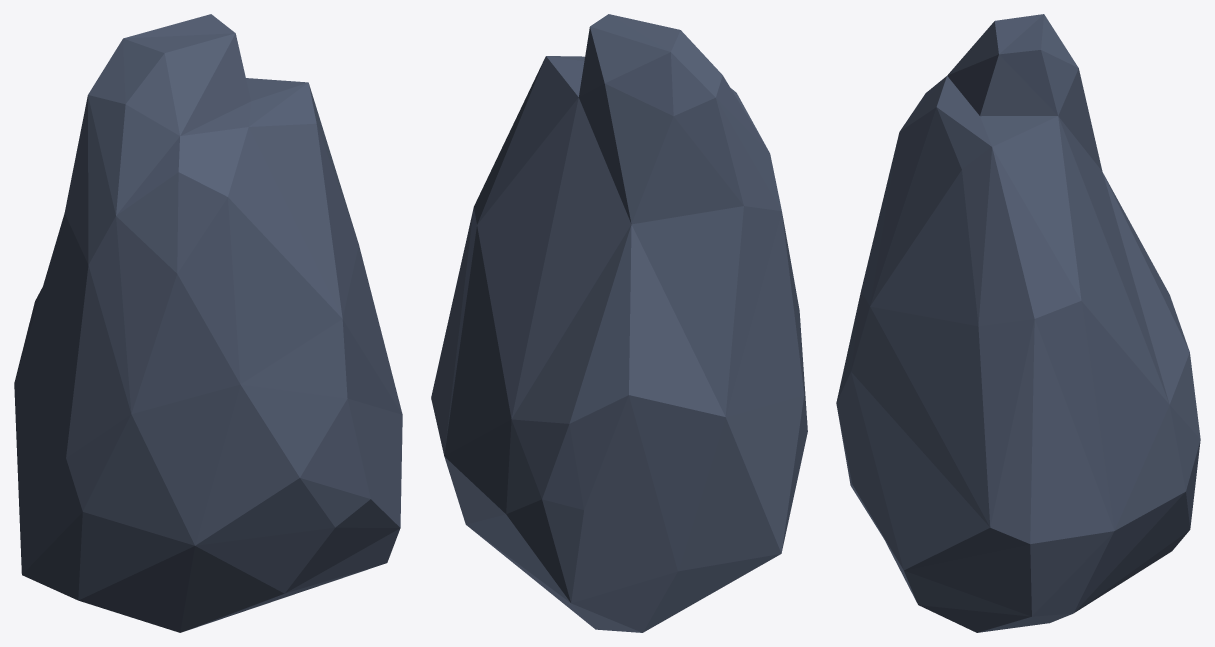
Rendered from rock2_col.FBX.
3 renders of one model, left to right at view 1: azimuth 30°, elevation 25°; view 2: azimuth 150°, elevation 25°; view 3: azimuth 270°, elevation 25°, orthographic. The views are drawn at different scales.
Parts seen in each view (by area): view 1: rock2_col; view 2: rock2_col; view 3: rock2_col.
Boxes of the visible parts, bbox=[...] form: rock2_col: bbox=[14, 14, 402, 632]; rock2_col: bbox=[431, 14, 807, 632]; rock2_col: bbox=[836, 14, 1200, 632].
Size of the model in its own units: 395 by 610 by 357.
